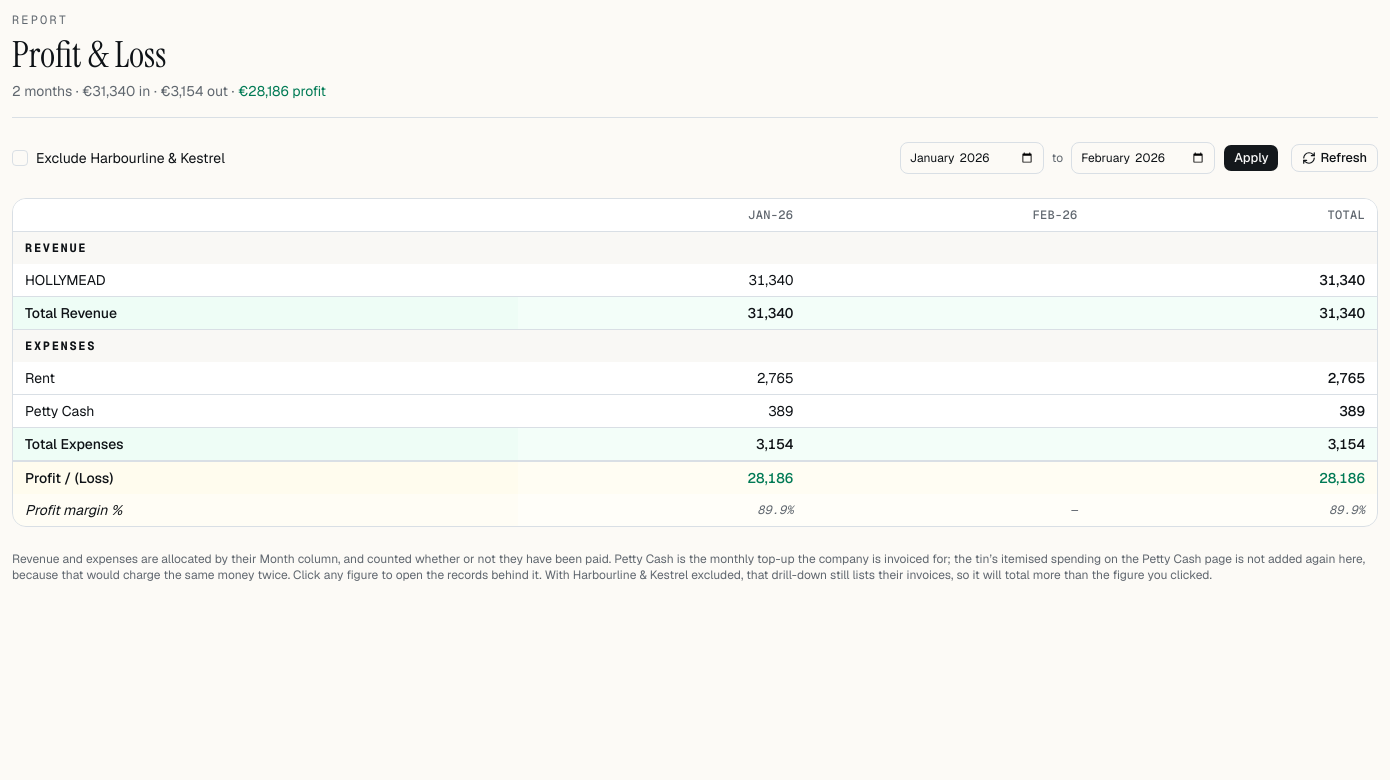
Test case: PnlPageClient › re-renders the columns when the filter is applied, with no navigation
Replace the text in the field named "To month" with "2026-03" at (1143, 158), box left=1071, top=142, right=1215, bottom=174
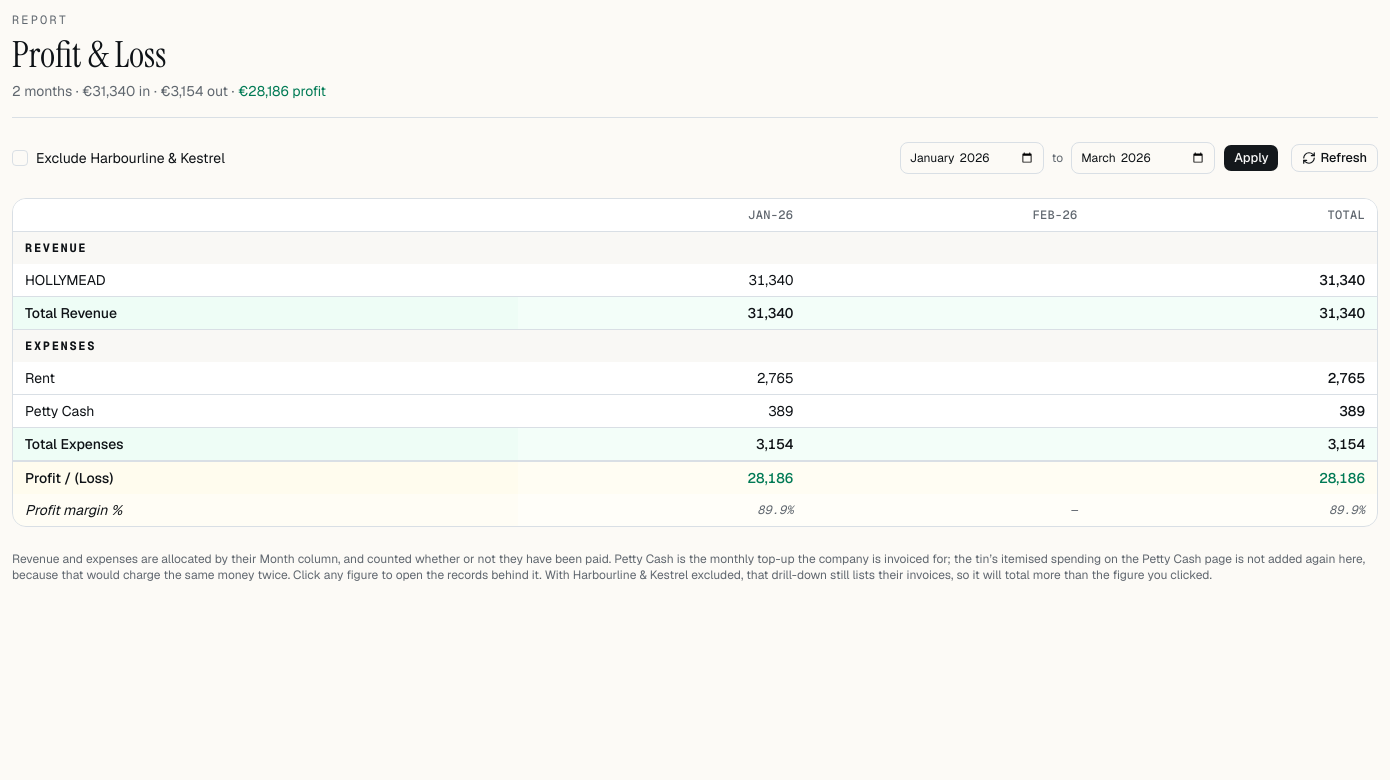
Click the button "Apply".
click(1251, 158)  # box left=1223, top=144, right=1280, bottom=172
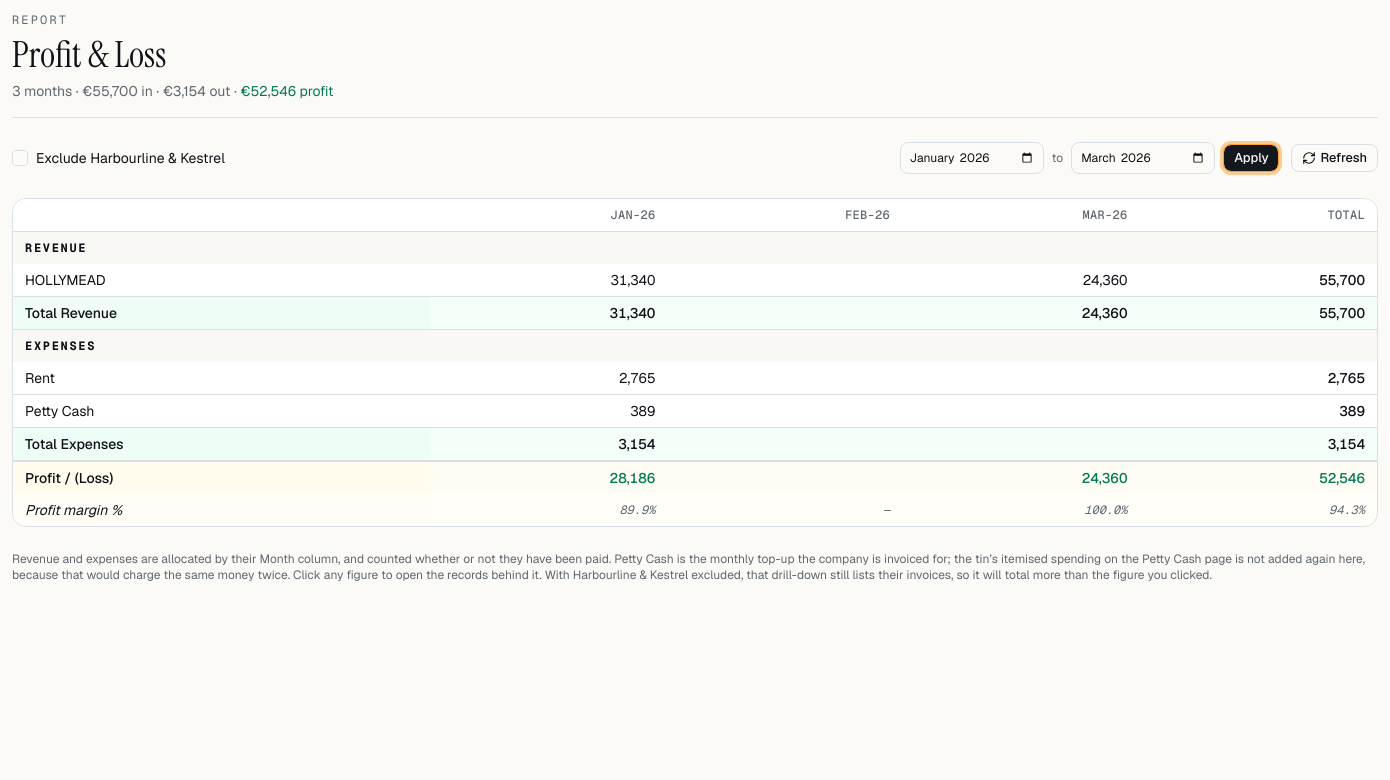
Now the column heading "Mar-26" is shown, box left=902, top=199, right=1140, bottom=232
Now the link "24,360" in the row of "HOLLYMEAD" is shown, box left=1083, top=271, right=1128, bottom=289
